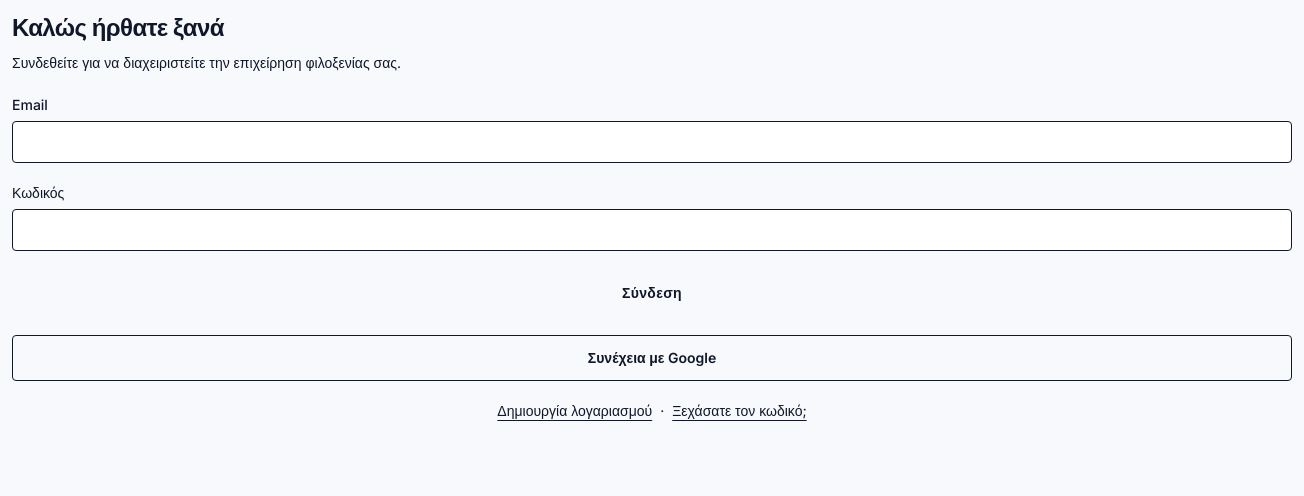
Test: CredentialsSignInForm › shows invalid credentials error and stays on form
The width and height of the screenshot is (1304, 496).
Type "bad@example.com" into the field labelled "Email".
click(652, 142); type("bad@example.com")  # box x1=12 y1=121 x2=1292 y2=163
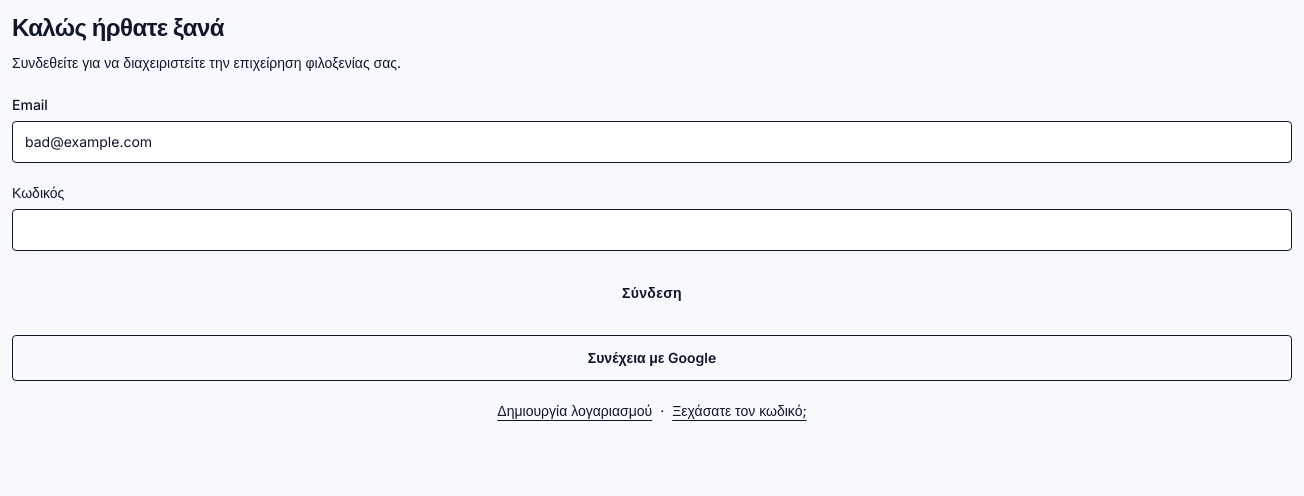
Type "wrong" into the password field labelled "Κωδικός".
click(652, 230); type("wrong")  # box x1=12 y1=209 x2=1292 y2=251
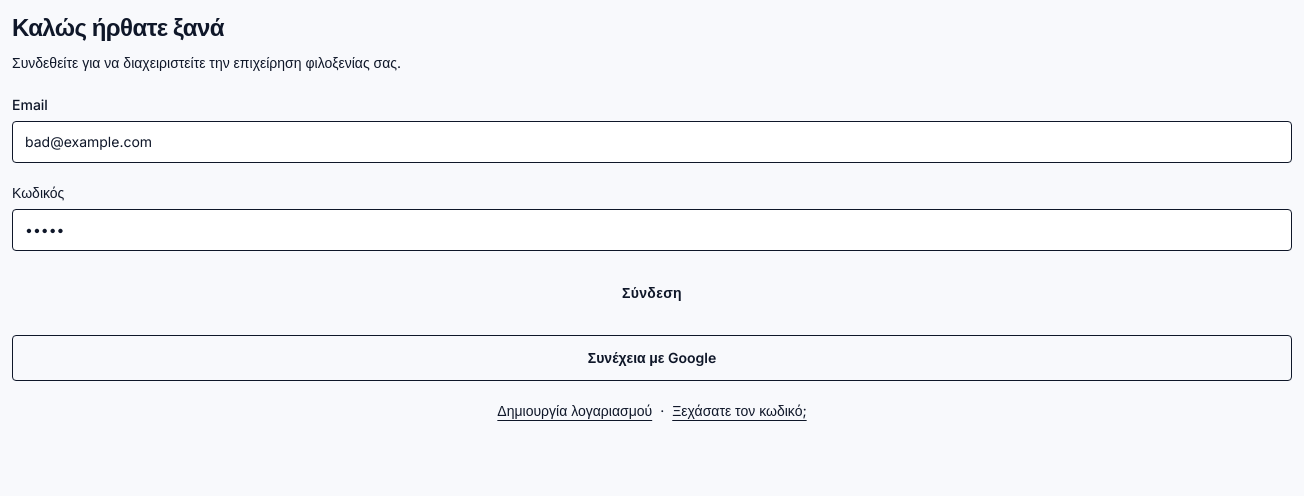
Click the button "Σύνδεση".
click(652, 293)  # box x1=12 y1=271 x2=1292 y2=315
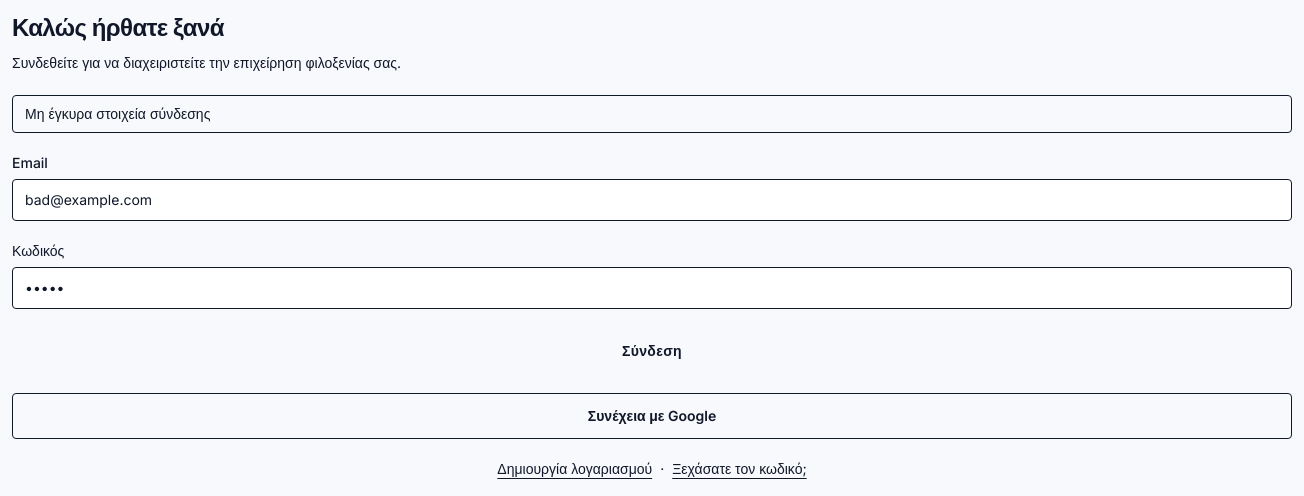
Result: the message reads "Μη έγκυρα στοιχεία σύνδεσης" at x1=25 y1=105 x2=210 y2=122
